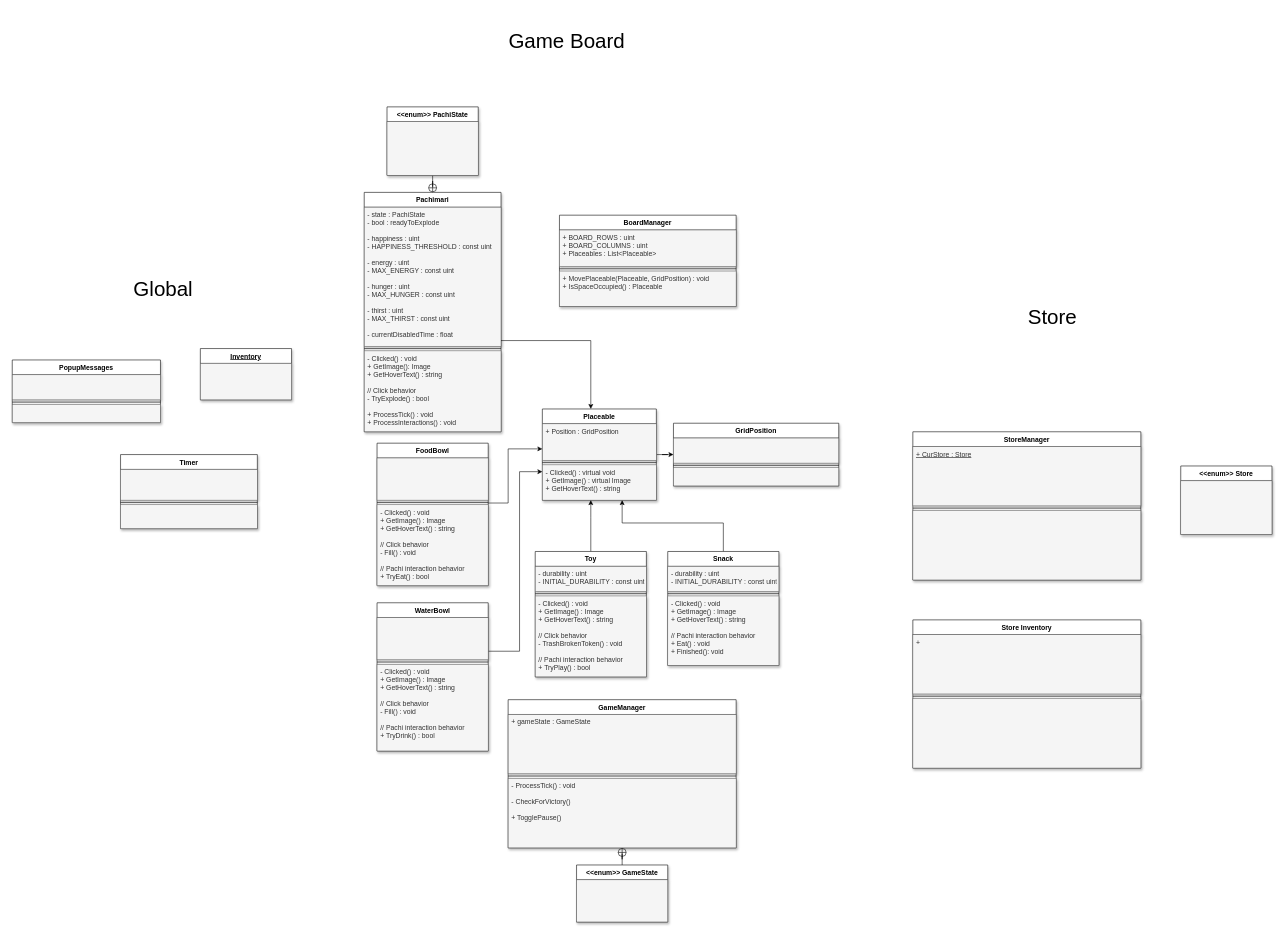
Some shapes in this 1285 by 936 pixel diagram are drawn without their labels. The centre of each missing label's shape, as x and y in pixels:
"+ DisplayMessage(string message) : void" goes at pixel 86 414.
"+ FoodReserve : int + WaterReserve : int" goes at pixel 246 382.
"+ gameTick : ActionEvent" goes at pixel 189 485.
"+ GetGridPositionFromString(string) : GridPosition" goes at pixel 756 477.
"+ Rot : uint + Column : uint" goes at pixel 756 451.
"- food : uint - MAX_FOOD : const uint - color: Color" goes at pixel 433 479.
"- water : uint - MAX_WATER : const uint - color: Color" goes at pixel 433 639.
"Idle Horde Sleeping Woke Up Eating Playing" goes at pixel 433 149.
"Paused Active Victory" goes at pixel 622 901.
"PetStore MattressStore SuperMarket ToyStore ElectronicsStore" goes at pixel 1226 508.
